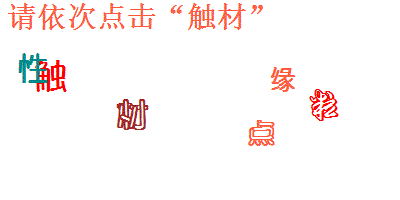result: (184, 2, 247, 31)
text: (34, 57, 70, 93), (15, 50, 50, 87), (114, 97, 150, 132), (308, 88, 341, 124), (247, 118, 276, 149), (268, 65, 298, 94)
